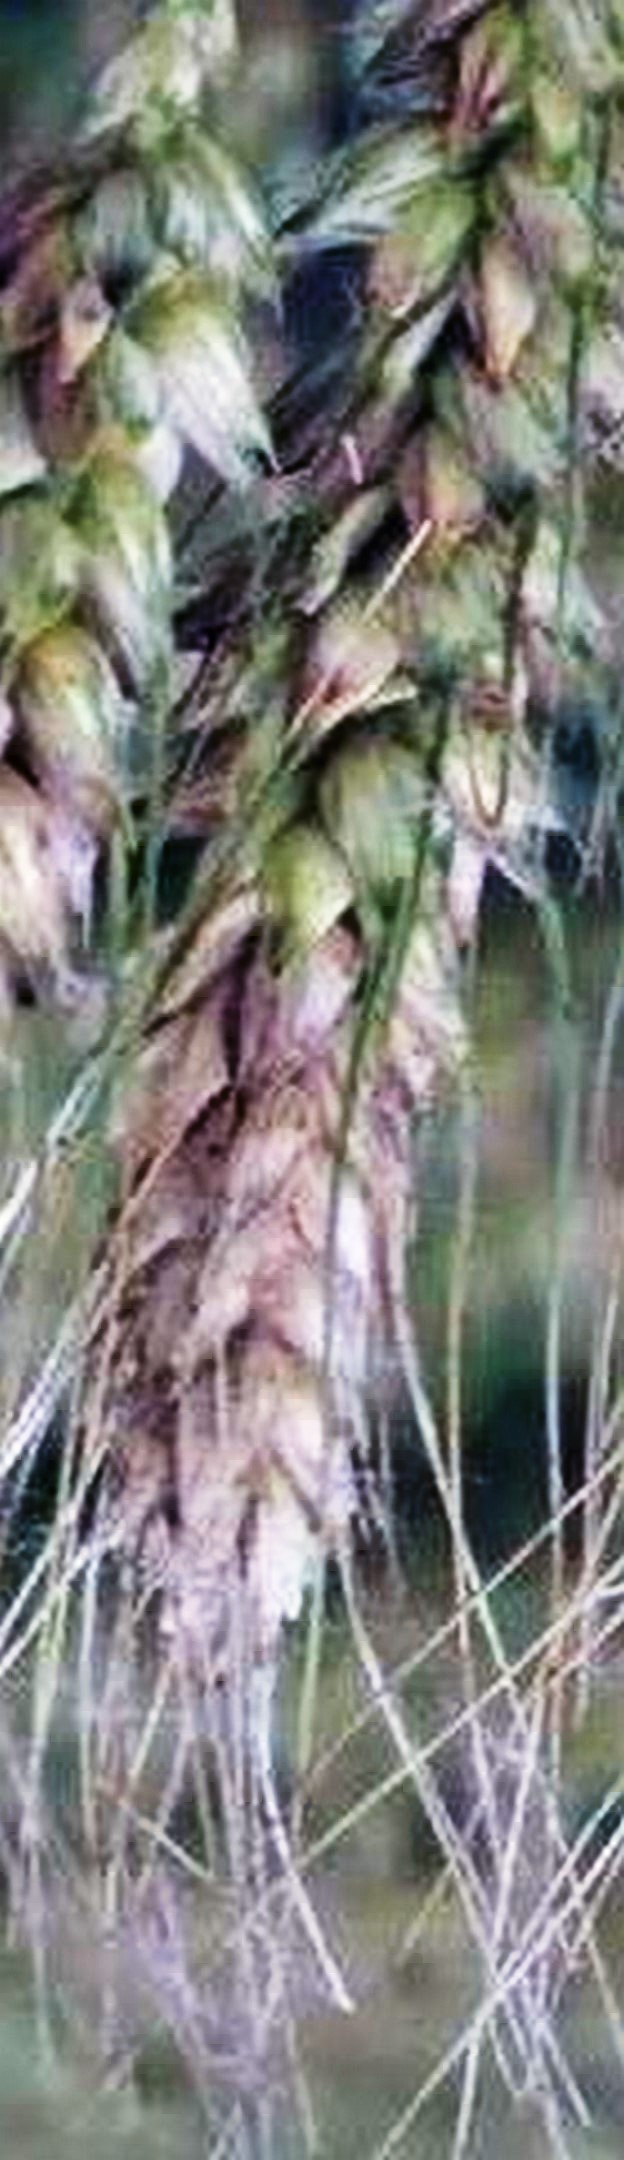Wheat scab: (96, 12, 624, 1701)
